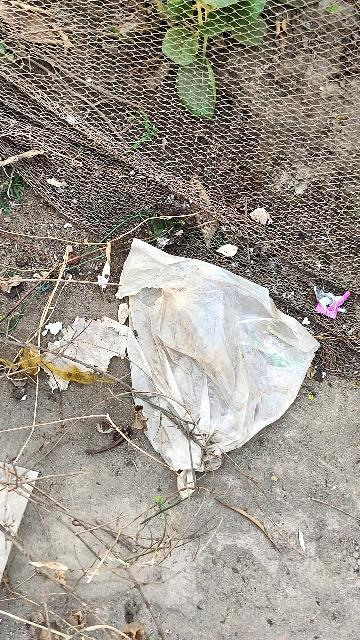polythene: (40, 240, 326, 512)
